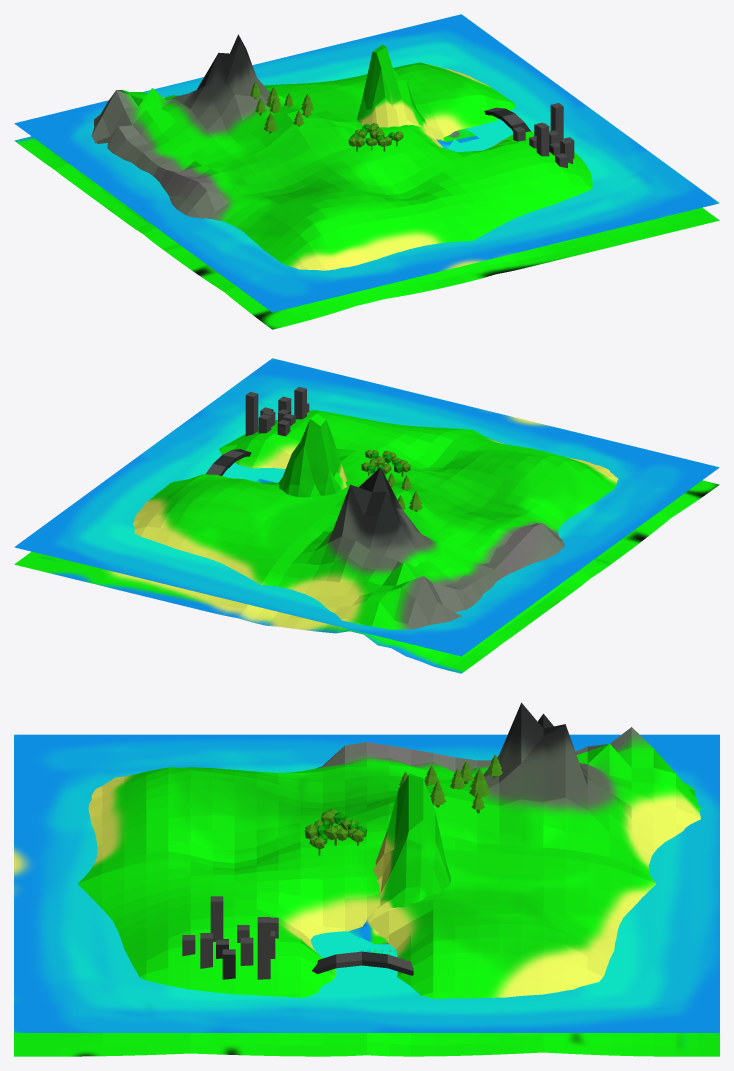
The model's file is bullet.obj.
3 renders of one model, top to bottom at view 1: azimuth 30°, elevation 25°; view 2: azimuth 150°, elevation 25°; view 3: azimuth 270°, elevation 25°, orthographic. The views are drawn at different scales.
Parts seen in each view (by area): view 1: Plane.001, Plane; view 2: Plane.001, Plane; view 3: Plane.001, Plane.
Boxes of the visible parts, x1,y1,x2,y2 form: Plane.001: (14, 14, 719, 329); Plane: (357, 44, 479, 148); Plane.001: (14, 358, 719, 673); Plane: (256, 413, 347, 497); Plane.001: (14, 702, 719, 1056); Plane: (348, 773, 450, 954).
Bounding box in the file's own units: 246 × 60.93 × 246.
